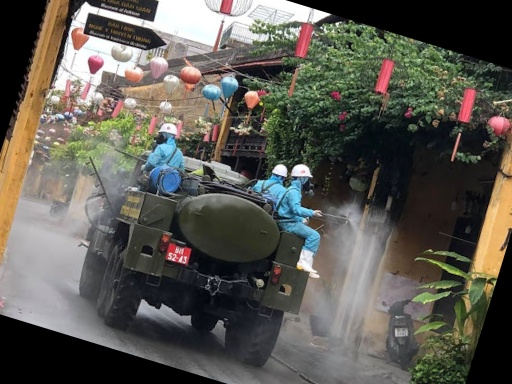plate: (167, 241, 192, 267)
